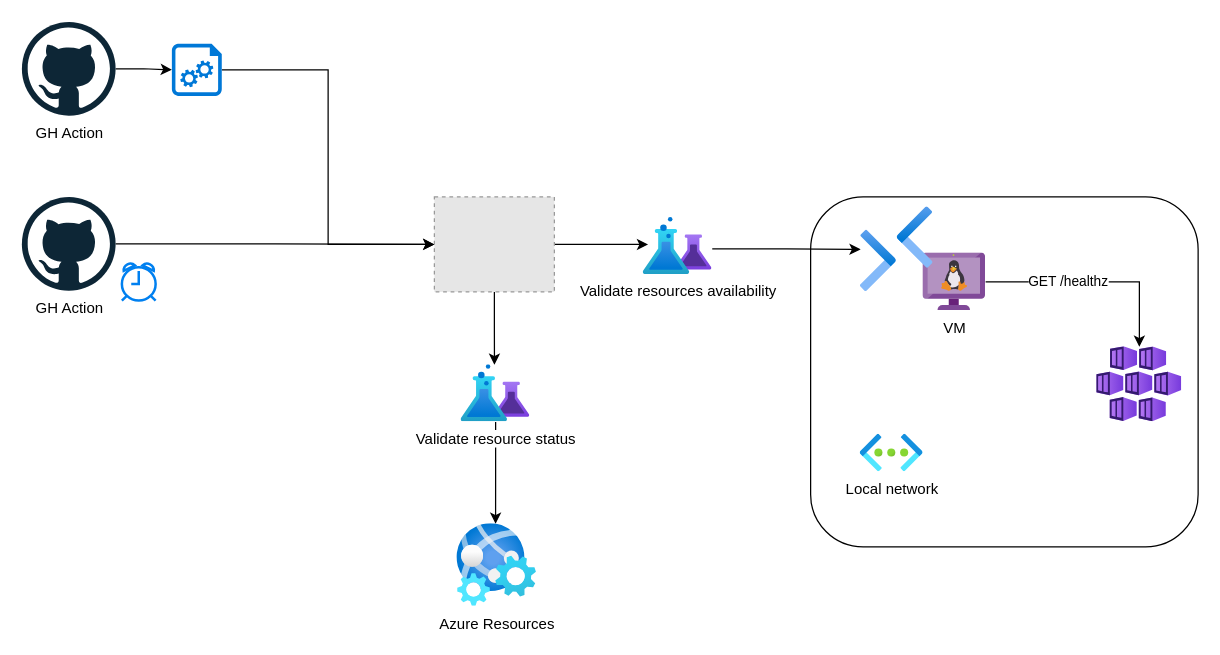
Image size: 1220x655. Some labels were removed from this diagram. Grey dashed boxes stand in for pictures. Here are the shapes that lost their labels. From the top down, the centre of each, then its label:
At point (196, 69): "Bicep Deploy".
At point (896, 248): "Bastion".
At point (1138, 383): "AKS".
